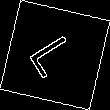L_NE: (25, 29, 85, 81)
